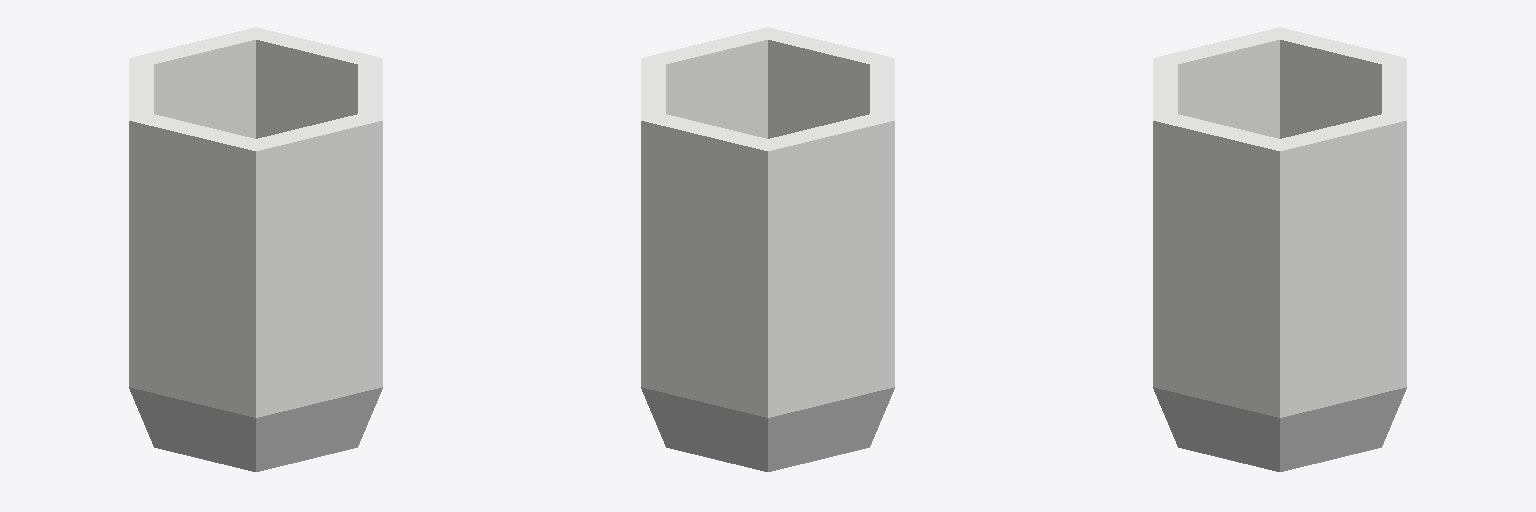
The model's file is GlassCup.obj.
The picture shows the model from 3 angles: view 1: azimuth 30°, elevation 25°; view 2: azimuth 150°, elevation 25°; view 3: azimuth 270°, elevation 25°; orthographic projection.
Visible parts, largest first — view 1: object_1; view 2: object_1; view 3: object_1.
Boxes of the visible parts, <box> form: object_1: <box>129,27,382,471</box>; object_1: <box>641,27,894,471</box>; object_1: <box>1153,27,1406,471</box>.
Bounding box in the file's own units: 8 × 10 × 6.93.